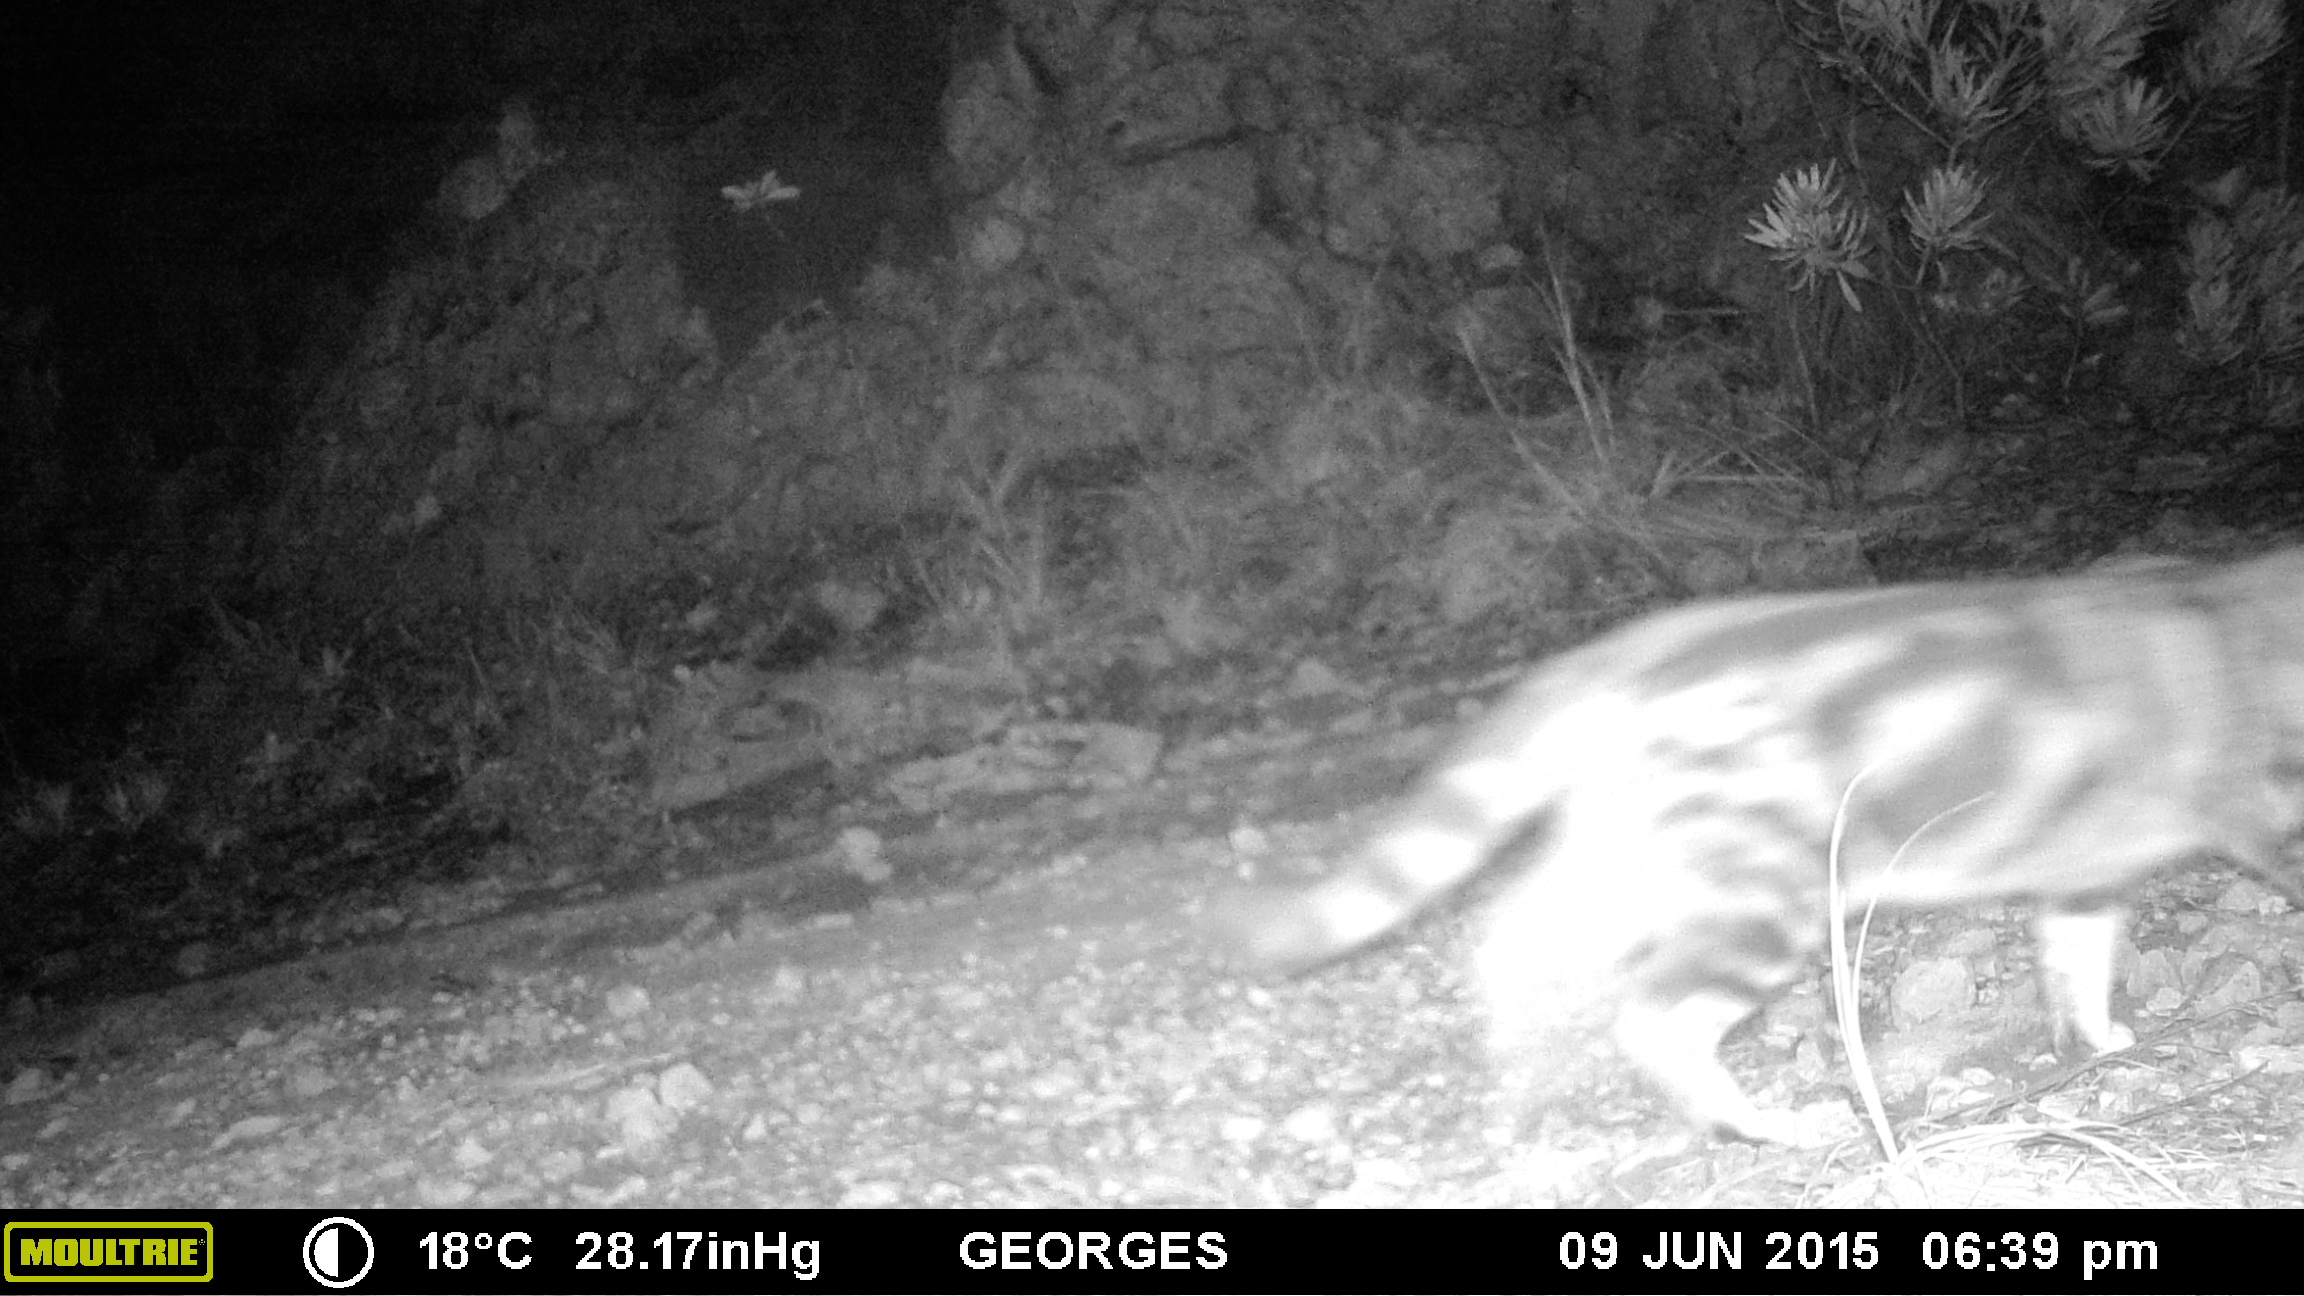cat: (1230, 525, 2302, 1204)
